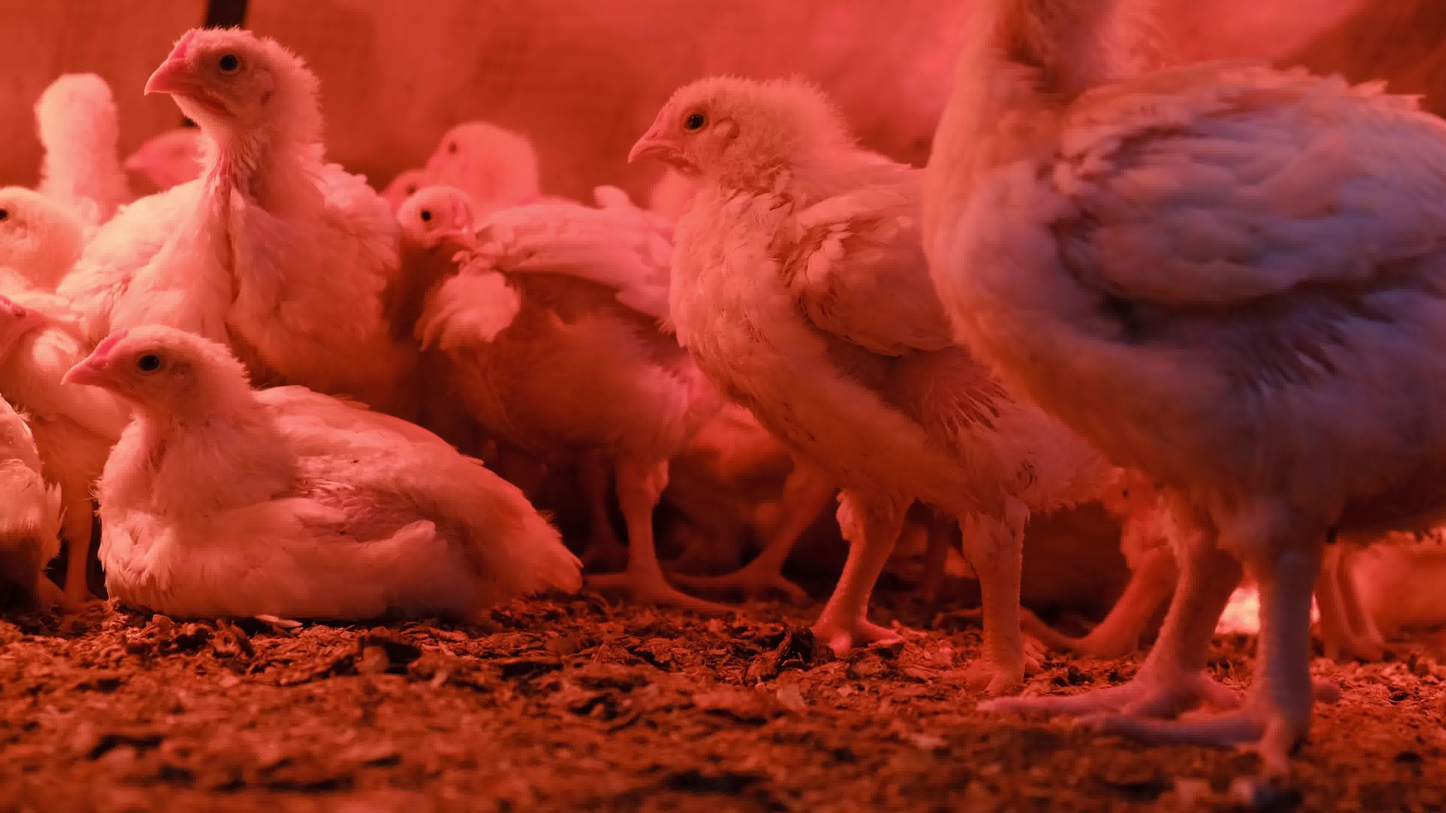AbNormal: (64, 332, 584, 620), (0, 288, 49, 631)
Normal: (923, 0, 1446, 771), (627, 76, 1119, 690), (408, 122, 748, 614), (64, 25, 433, 432), (0, 181, 135, 619), (353, 185, 479, 449), (36, 67, 128, 228), (125, 126, 230, 211), (379, 168, 436, 210)
